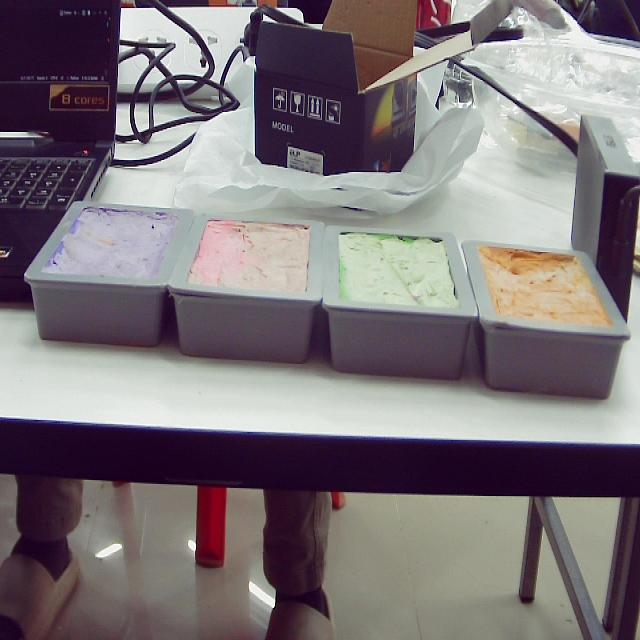block: (462, 242, 632, 398), (23, 202, 198, 348), (164, 212, 327, 363), (320, 227, 476, 380)
